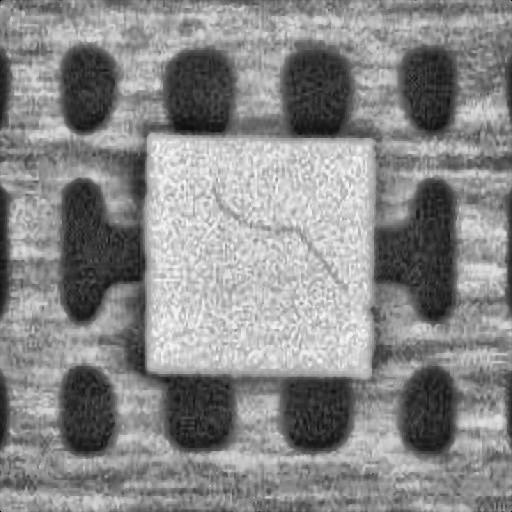DIE_CRACK: (211, 183, 345, 292)
